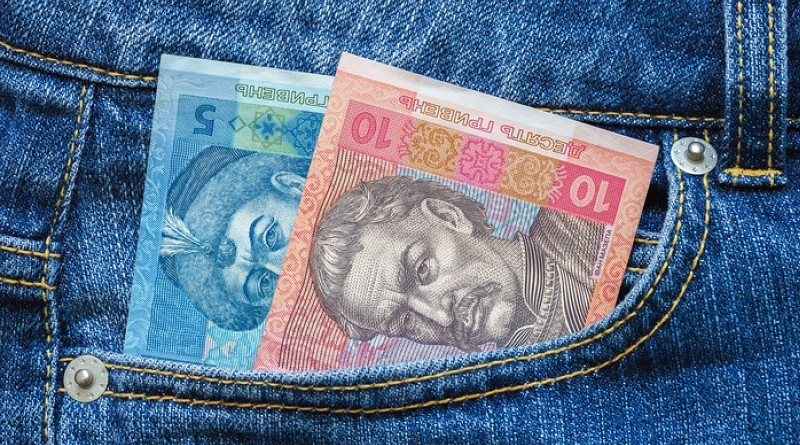bn_10: (191, 52, 658, 382)
bn_5: (103, 55, 318, 352)
